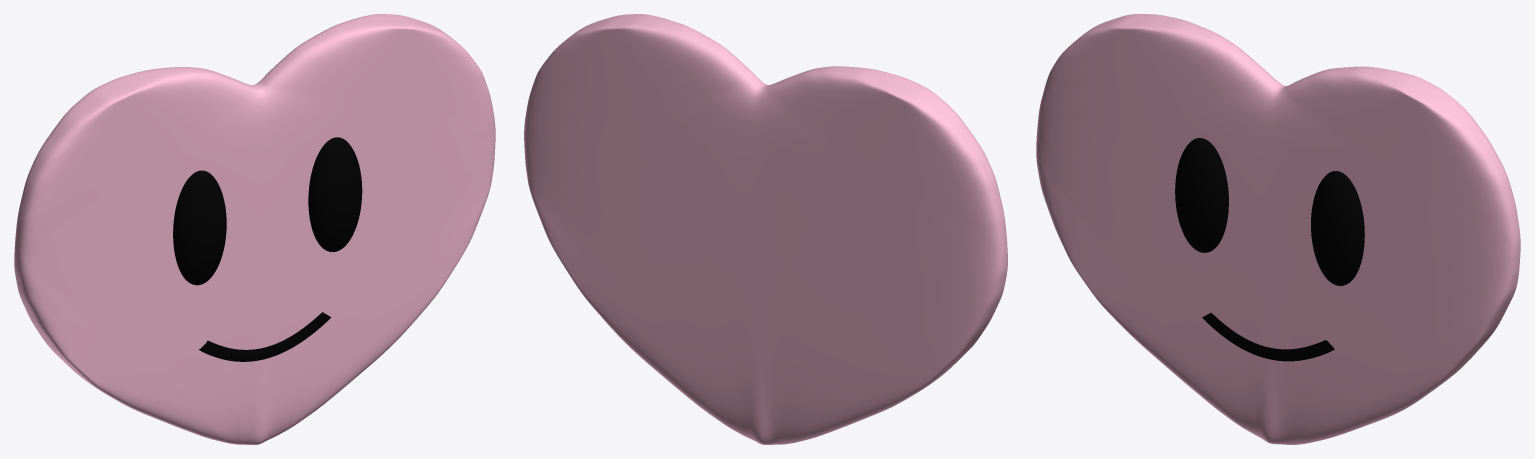
File: heart.glb
The picture shows the model from 3 angles, left to right: view 1: azimuth 30°, elevation 25°; view 2: azimuth 150°, elevation 25°; view 3: azimuth 330°, elevation 25°; orthographic projection.
Parts seen in each view (by area): view 1: Plane, Sphere, Sphere.001, Curve; view 2: Plane; view 3: Plane, Sphere, Sphere.001, Curve.
Part boxes in pixels (<box>): Plane: <box>14,14,495,444</box>; Sphere: <box>308,137,362,251</box>; Sphere.001: <box>173,170,226,285</box>; Curve: <box>199,312,330,361</box>; Plane: <box>524,14,1007,444</box>; Plane: <box>1036,14,1520,444</box>; Sphere: <box>1311,171,1364,285</box>; Sphere.001: <box>1175,138,1228,252</box>; Curve: <box>1202,312,1334,361</box>.
Size of the model in its own units: 8.72 by 6.85 by 0.925.
